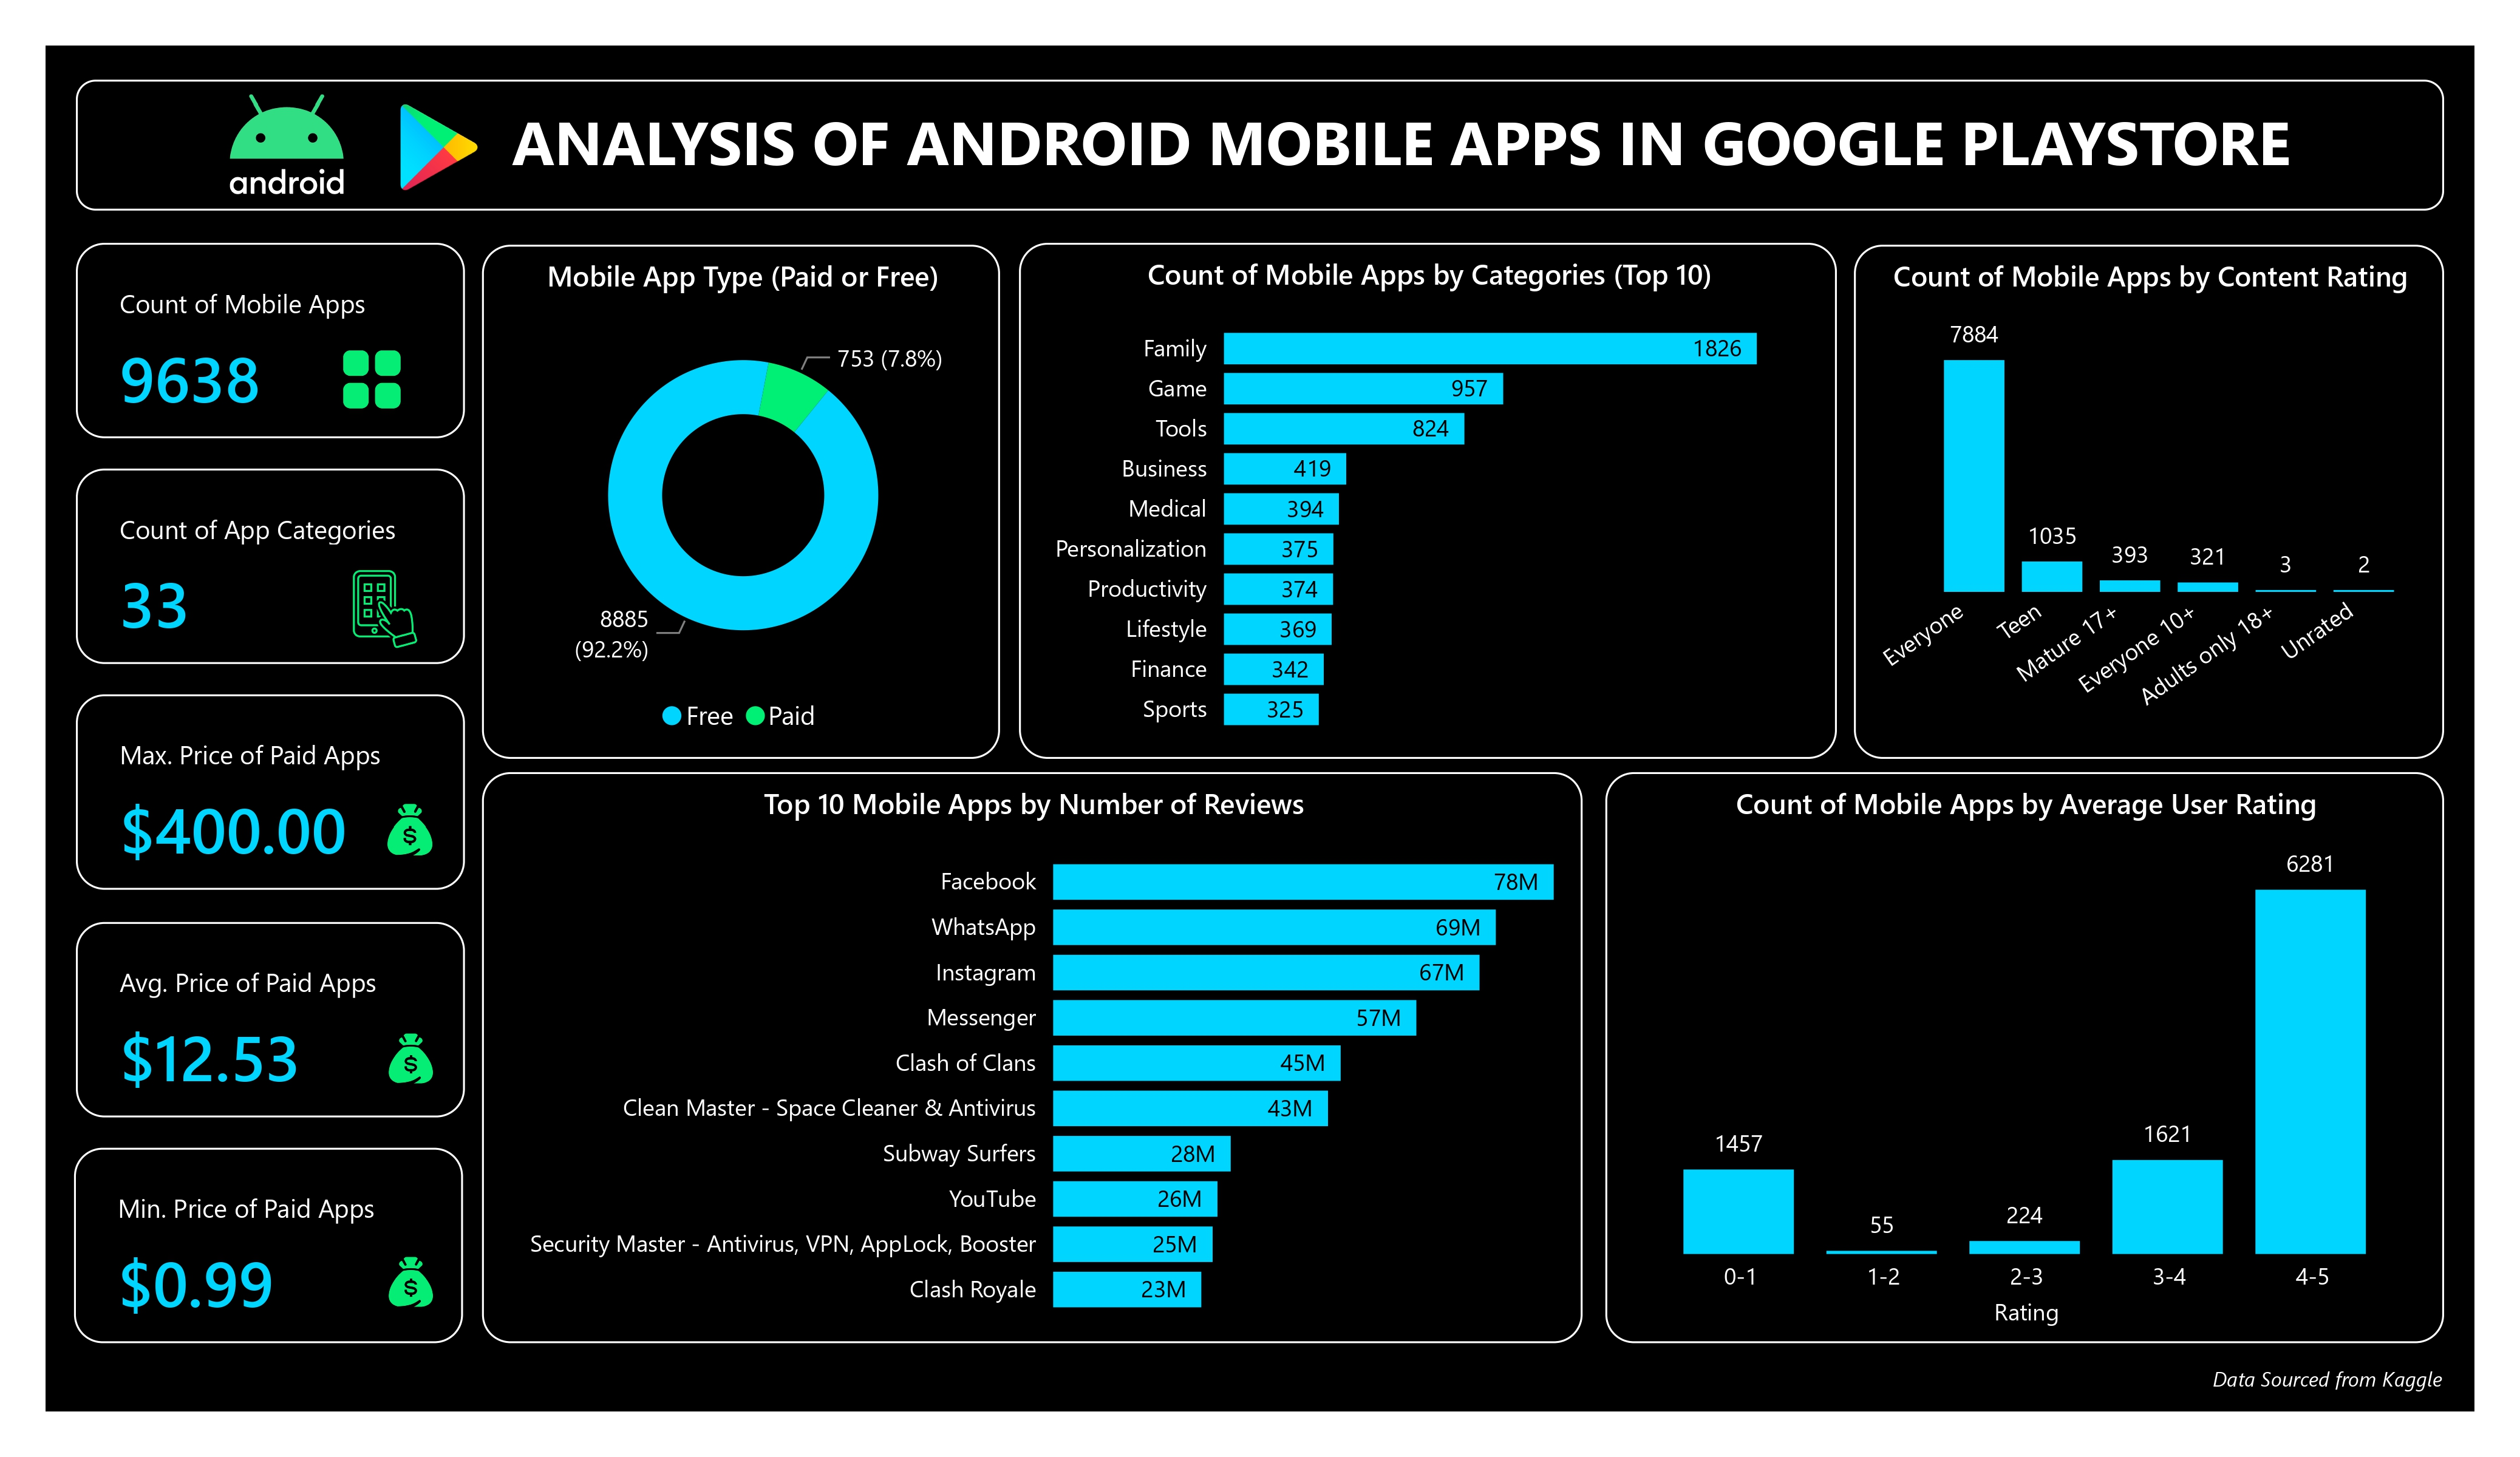

Layout of this report page (visuals, bound fields, positions):
{"tool":"powerbi","page":{"name":"Page 1","canvas":[1280,720],"ordinal":0},"visuals":[{"type":"cardVisual","fields":{"Data":["Max(google_playstore_apps.Price)"]},"box":[15.6,342.4,205.2,103.1],"z":0},{"type":"shape","box":[15.6,18.5,1248.9,68.1],"z":1},{"type":"textbox","box":[133.3,23.3,1054.3,57.4],"z":2},{"type":"cardVisual","fields":{"Data":["CountNonNull(google_playstore_apps.S/N)"]},"box":[15.6,104.1,205.2,103.1],"z":3},{"type":"cardVisual","fields":{"Data":["Count(google_playstore_apps.Category)"]},"box":[15.6,223.2,205.2,103.1],"z":4},{"type":"cardVisual","fields":{"Data":["Avg(google_playstore_apps.Price)"]},"box":[15.6,461.5,205.2,103.1],"z":5},{"type":"cardVisual","fields":{"Data":["Min(google_playstore_apps.Price)"]},"box":[14.6,580.7,205.2,103.1],"z":6},{"type":"clusteredBarChart","title":"Count of Mobile Apps by Categories (Top 10)","fields":{"Y":["CountNonNull(google_playstore_apps.Category)"],"Category":["google_playstore_apps.Category"]},"box":[512.6,104.1,431.9,272.3],"z":7},{"type":"donutChart","title":"Mobile App Type (Paid or Free)","fields":{"Category":["google_playstore_apps.Type"],"Y":["CountNonNull(google_playstore_apps.Type)"]},"box":[229.5,105,273.3,271.4],"z":8},{"type":"clusteredColumnChart","title":"Count of Mobile Apps by Content Rating","fields":{"Category":["google_playstore_apps.Content Rating"],"Y":["CountNonNull(google_playstore_apps.Content Rating)"]},"box":[953.2,105,311.2,271.4],"z":9},{"type":"barChart","title":"Top 10 Mobile Apps by Number of Reviews","fields":{"Category":["google_playstore_apps.App"],"Y":["Sum(google_playstore_apps.Reviews)"]},"box":[229.5,383.2,580.7,300.5],"z":10},{"type":"columnChart","title":"Count of Mobile Apps by Average User Rating","fields":{"Category":["google_playstore_apps.Rating Group"],"Y":["CountNonNull(google_playstore_apps.Rating Group)"]},"box":[821.9,383.2,442.6,300.5],"z":11},{"type":"image","box":[154.6,0,103.1,107],"z":12},{"type":"image","box":[81.7,6.8,90.5,90.5],"z":14},{"type":"image","box":[141,253.9,75.9,76.8],"z":15},{"type":"image","box":[136.2,138.1,72,75.9],"z":16},{"type":"image","box":[162.4,382.2,59.3,59.3],"z":17},{"type":"image","box":[162.4,502.9,59.3,59.3],"z":18},{"type":"image","box":[162.4,620.5,59.3,59.3],"z":19},{"type":"textbox","box":[968.8,687.7,299.6,32.1],"z":20}]}

Visuals, with their boxes in screenshot pixels (x1, y1, x2, y2):
cardVisual - Max(google_playstore_apps.Price): rect(75, 695, 465, 891)
shape: rect(75, 81, 2445, 210)
textbox: rect(299, 90, 2299, 199)
cardVisual - CountNonNull(google_playstore_apps.S/N): rect(75, 243, 465, 438)
cardVisual - Count(google_playstore_apps.Category): rect(75, 469, 465, 665)
cardVisual - Avg(google_playstore_apps.Price): rect(75, 921, 465, 1116)
cardVisual - Min(google_playstore_apps.Price): rect(73, 1147, 463, 1343)
"Count of Mobile Apps by Categories (Top 10)" clusteredBarChart: rect(1018, 243, 1838, 759)
"Mobile App Type (Paid or Free)" donutChart: rect(481, 245, 999, 759)
"Count of Mobile Apps by Content Rating" clusteredColumnChart: rect(1854, 245, 2445, 759)
"Top 10 Mobile Apps by Number of Reviews" barChart: rect(481, 772, 1583, 1343)
"Count of Mobile Apps by Average User Rating" columnChart: rect(1605, 772, 2445, 1343)
image: rect(339, 46, 534, 248)
image: rect(200, 58, 372, 230)
image: rect(313, 527, 457, 673)
image: rect(304, 308, 441, 452)
image: rect(353, 770, 466, 883)
image: rect(353, 1000, 466, 1112)
image: rect(353, 1223, 466, 1335)
textbox: rect(1884, 1350, 2453, 1411)
